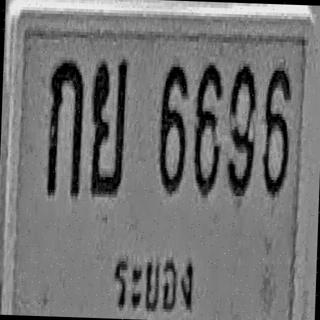A01: (30, 30, 94, 209)
A34: (83, 44, 137, 218)
N06: (144, 38, 193, 208), (258, 50, 294, 226), (192, 52, 223, 223)
N09: (224, 58, 259, 225)
P53: (102, 226, 210, 320)
